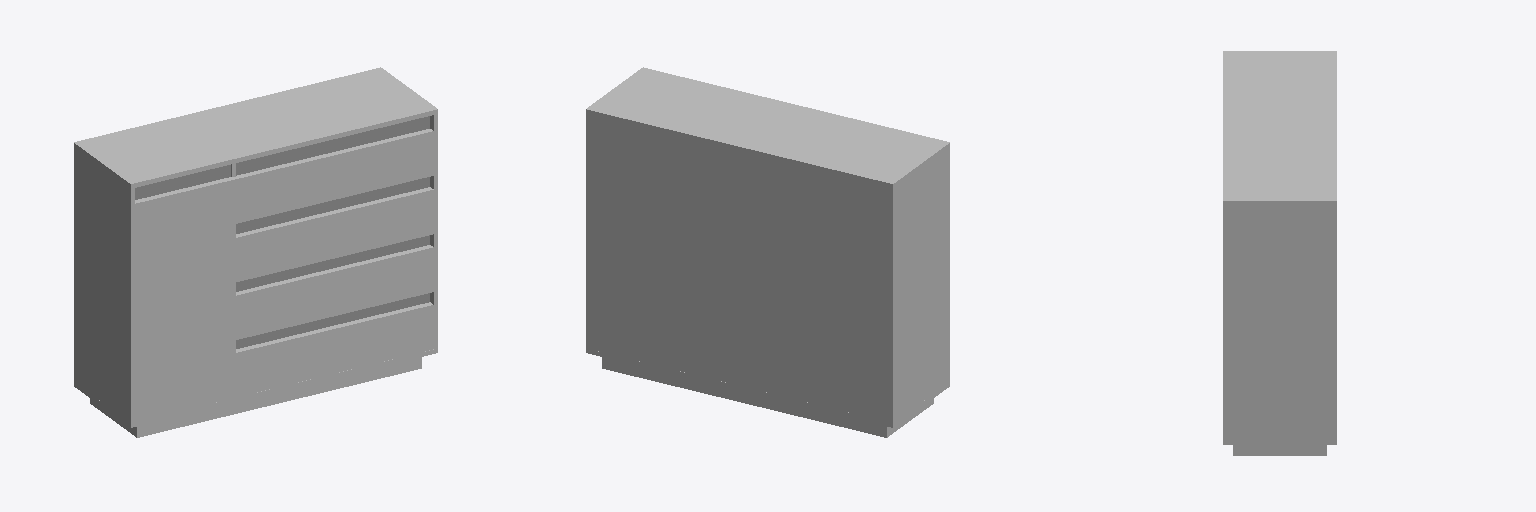
Rendered from ВЕРДЖИНИЯ.obj.
3 views of the same model, side by side, from view 1: azimuth 30°, elevation 25°; view 2: azimuth 150°, elevation 25°; view 3: azimuth 270°, elevation 25° (orthographic).
Visible parts, largest first — view 1: Cube.011_Cube.017, Cube.006_Cube.007, Cube.003_Cube.004; view 2: Cube.006_Cube.007; view 3: Cube.006_Cube.007.
Boxes of the visible parts, x1=… form: Cube.011_Cube.017: x1=135, y1=129, x2=433, y2=421; Cube.006_Cube.007: x1=74, y1=67, x2=437, y2=437; Cube.003_Cube.004: x1=135, y1=116, x2=429, y2=348; Cube.006_Cube.007: x1=586, y1=67, x2=949, y2=437; Cube.006_Cube.007: x1=1223, y1=51, x2=1336, y2=455.
Bounding box in the file's own units: 2.48 × 2.01 × 0.7998.